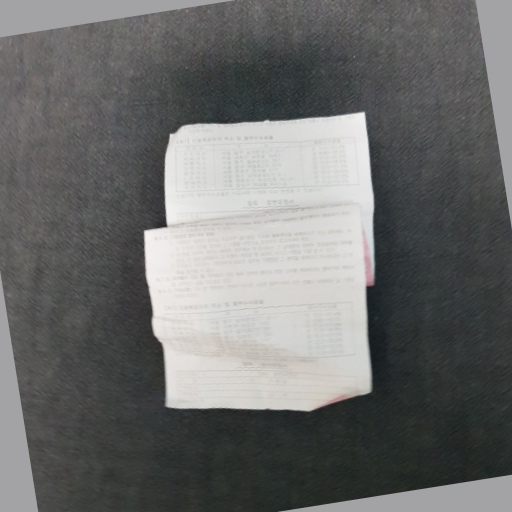Paper_3: (134, 103, 405, 421)
